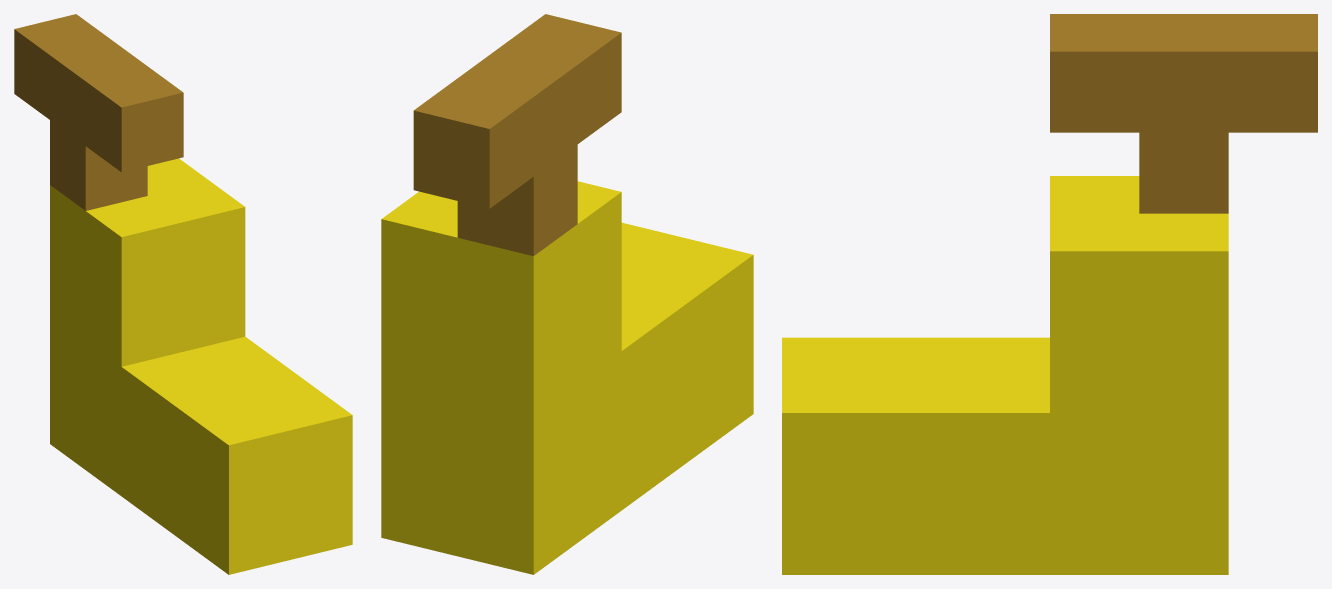
Rendered from item_banana.fbx.
3 renders of one model, left to right at view 1: azimuth 30°, elevation 25°; view 2: azimuth 150°, elevation 25°; view 3: azimuth 270°, elevation 25°, orthographic. The views are drawn at different scales.
Visible parts, largest first — view 1: item_banana; view 2: item_banana; view 3: item_banana.
Part boxes in pixels (left/top/right/bottom): item_banana: left=14, top=14, right=352, bottom=574; item_banana: left=381, top=14, right=753, bottom=574; item_banana: left=782, top=14, right=1317, bottom=574.
Size of the model in its own units: 2 by 6 by 6.
